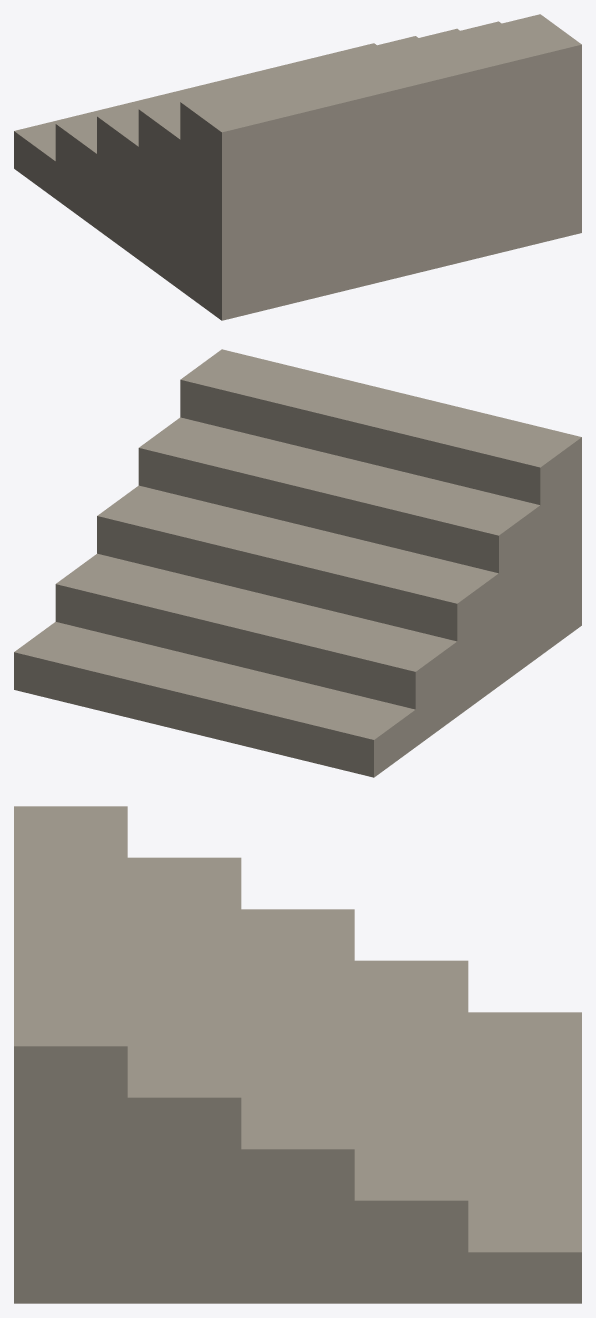
Rendered from stone_steps.fbx.
The picture shows the model from 3 angles, top to bottom: view 1: azimuth 30°, elevation 25°; view 2: azimuth 150°, elevation 25°; view 3: azimuth 270°, elevation 25°; orthographic projection. The views are drawn at different scales.
Parts seen in each view (by area): view 1: stone_steps; view 2: stone_steps; view 3: stone_steps.
Part boxes in pixels (x1=…): stone_steps: x1=14, y1=14, x2=581, y2=320; stone_steps: x1=14, y1=349, x2=581, y2=777; stone_steps: x1=14, y1=806, x2=581, y2=1303.
Size of the model in its own units: 3 by 1.5 by 3.
